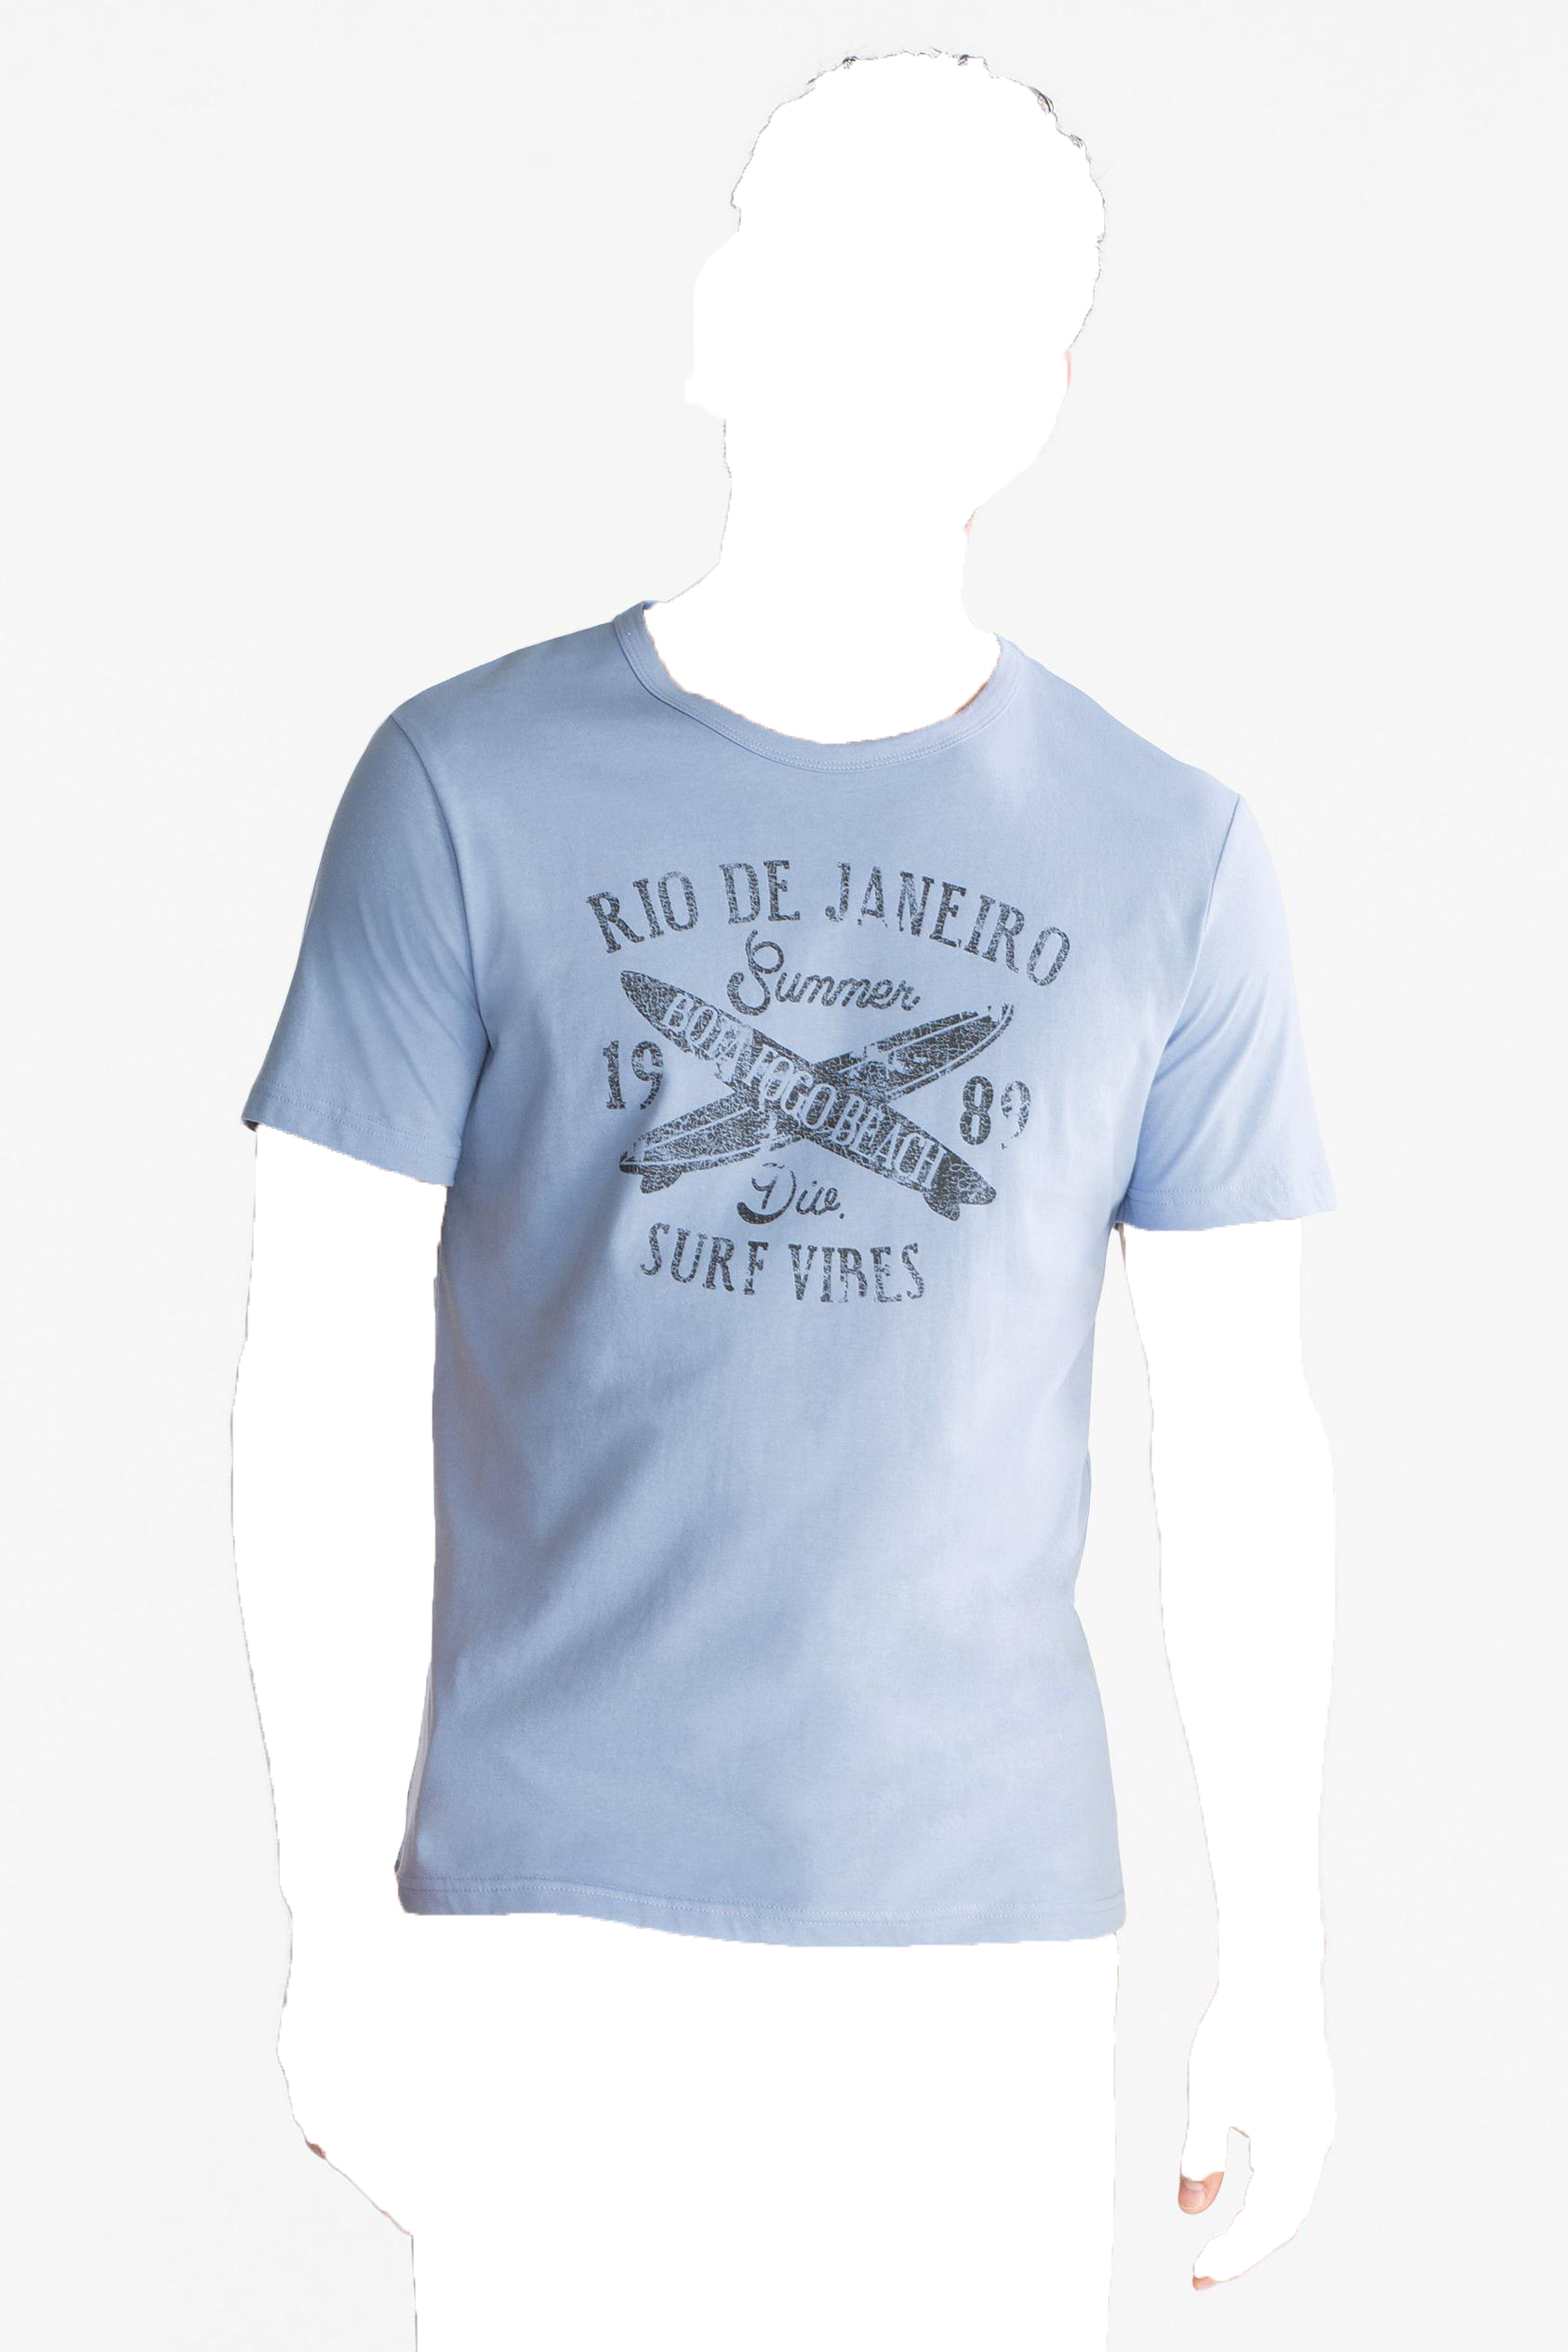teeshirt: (242, 593, 1354, 1970)
